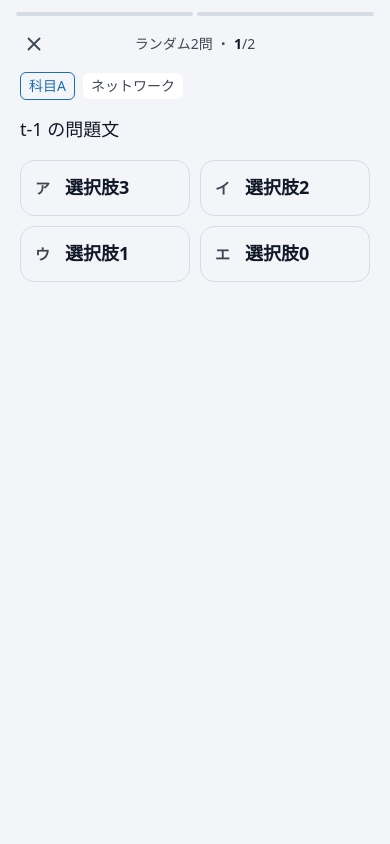
演習（S03） › 表示順で並び、正解すると解説パネルを出して記録する
This screenshot has width=390, height=844.
What coordinates should you click on to do the following:
click the button "ア 選択肢3"
I would click on:
 (105, 188)
Its box is x1=20 y1=160 x2=190 y2=216.
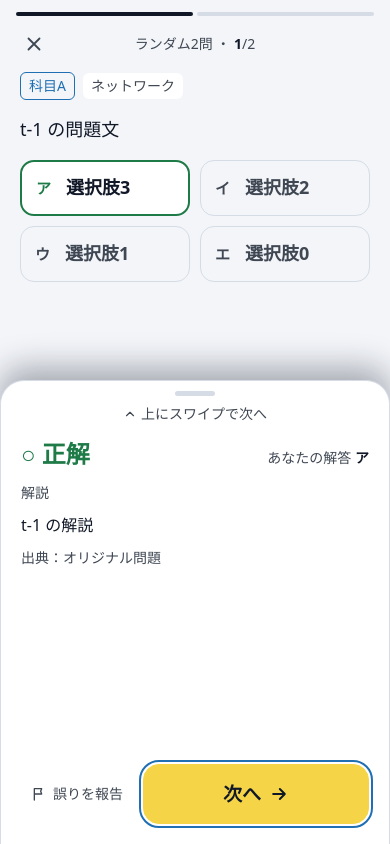
Result: the text "○ 正解" is shown at x1=21 y1=438 x2=90 y2=469
Result: the text "t-1 の解説" is shown at x1=21 y1=514 x2=93 y2=536
Result: the text "出典：オリジナル問題" is shown at x1=21 y1=548 x2=161 y2=567
What coordinates should you click on to do the following:
click the button "次へ"
I would click on:
 (256, 794)
Its box is x1=143 y1=764 x2=369 y2=824.
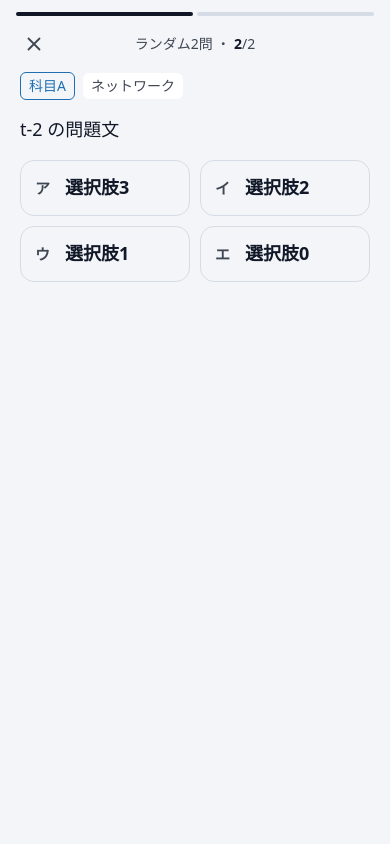
Result: the heading "t-2 の問題文" is shown at x1=20 y1=117 x2=119 y2=141
